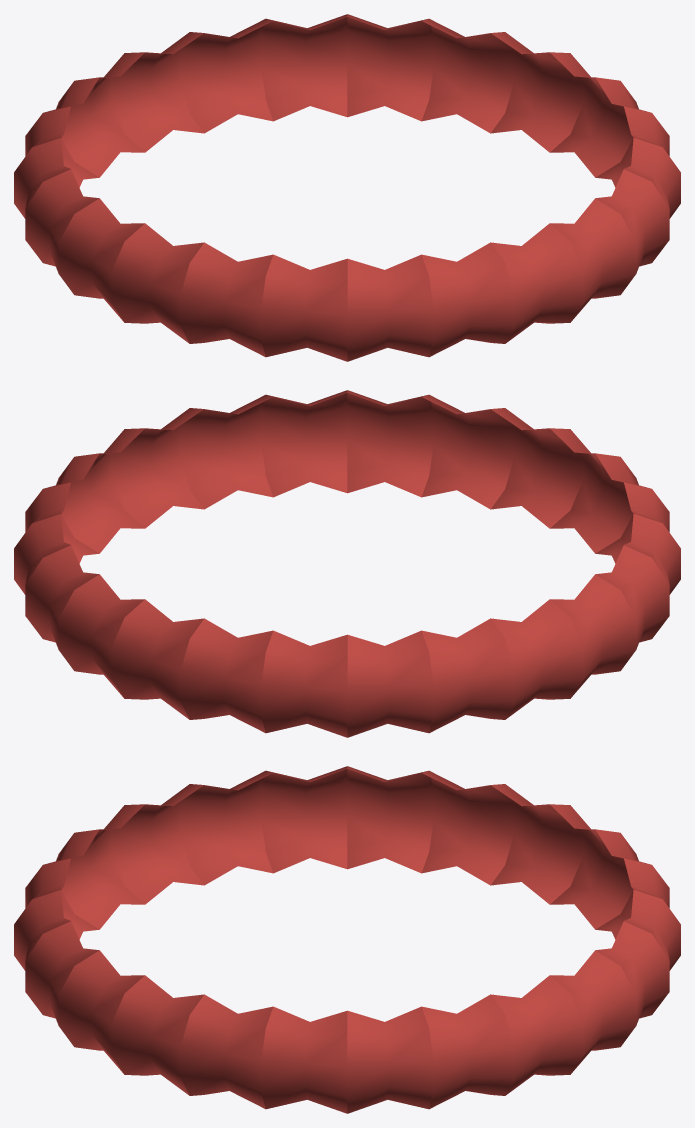
Rendered from weld.glb.
3 renders of one model, top to bottom at view 1: azimuth 30°, elevation 25°; view 2: azimuth 150°, elevation 25°; view 3: azimuth 270°, elevation 25°, orthographic.
Visible parts, largest first — view 1: lod0; view 2: lod0; view 3: lod0.
Part boxes in pixels (x1=…): lod0: x1=14, y1=14, x2=680, y2=361; lod0: x1=14, y1=390, x2=680, y2=737; lod0: x1=14, y1=766, x2=680, y2=1113.
Size of what is drawn, in the model's own units: 2.33 by 0.3876 by 2.33.
